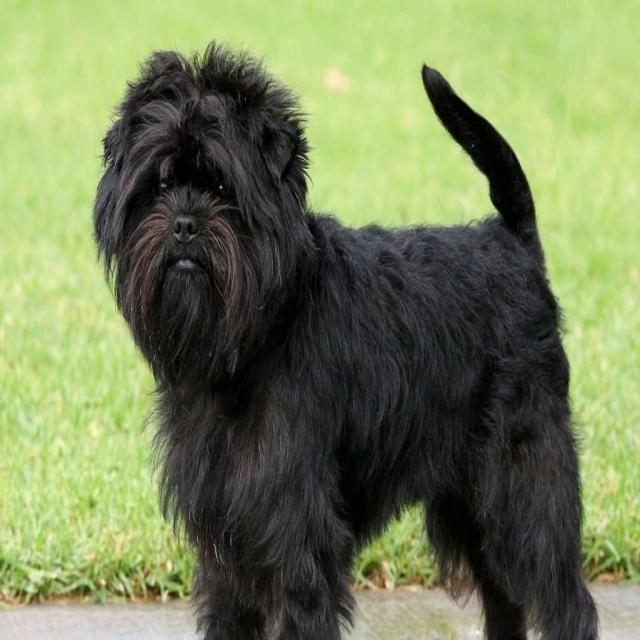dog: (51, 28, 327, 393)
